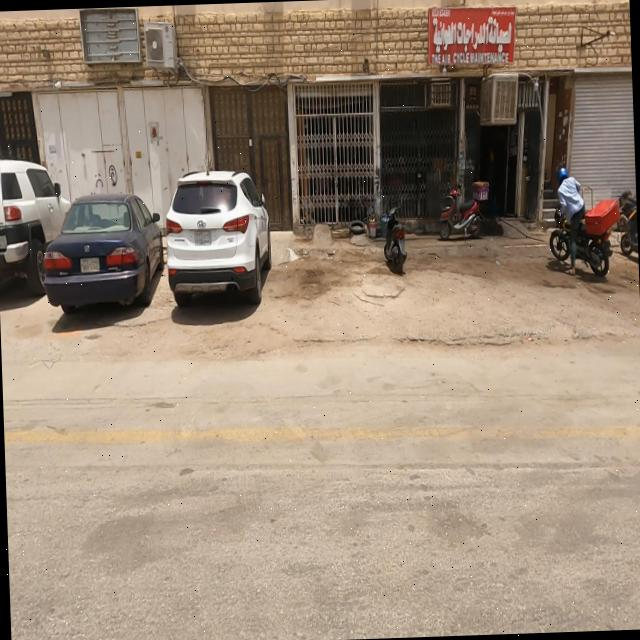Graffiti: (108, 161, 120, 187), (93, 172, 107, 191)
